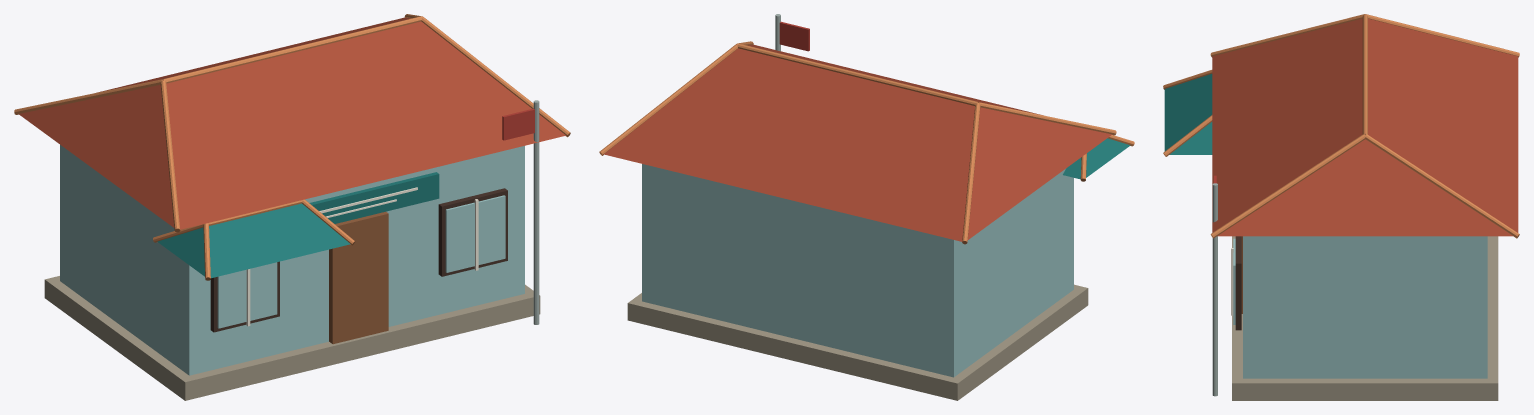
Rendered from 009_branch_post_office.glb.
3 views of the same model, side by side, from view 1: azimuth 30°, elevation 25°; view 2: azimuth 150°, elevation 25°; view 3: azimuth 270°, elevation 25° (orthographic). The views are drawn at different scales.
Parts seen in each view (by area): view 1: Branch post office; view 2: Branch post office; view 3: Branch post office.
Part boxes in pixels (x1,y1,x2,y2): Branch post office: (14, 14, 570, 400); Branch post office: (599, 14, 1134, 400); Branch post office: (1163, 14, 1519, 400).
Size of the model in its own units: 7.08 by 4.41 by 5.83.
